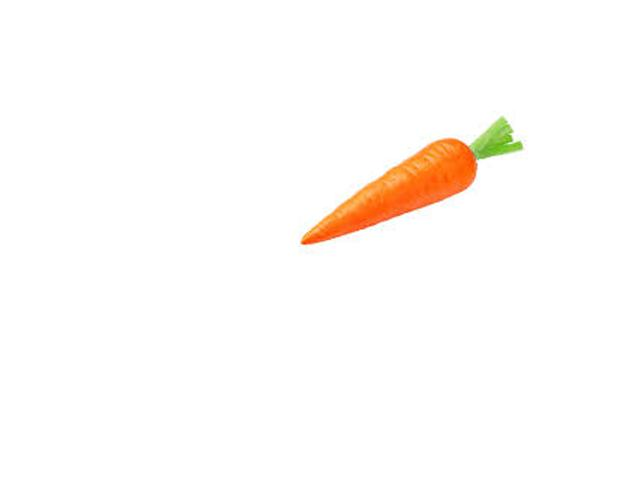carrot: (292, 138, 500, 256)
